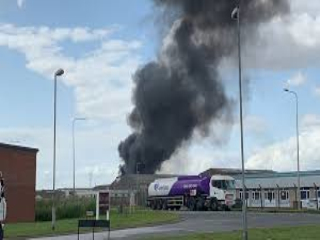smoke: (123, 4, 261, 186)
